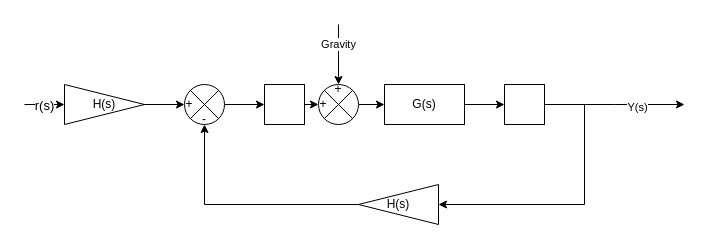
Image size: 710x242. Some labels were removed from this diagram. Each missing label, with the centre of its shape:
1 ⁄ s: [524,104]
C(s): [284,104]
